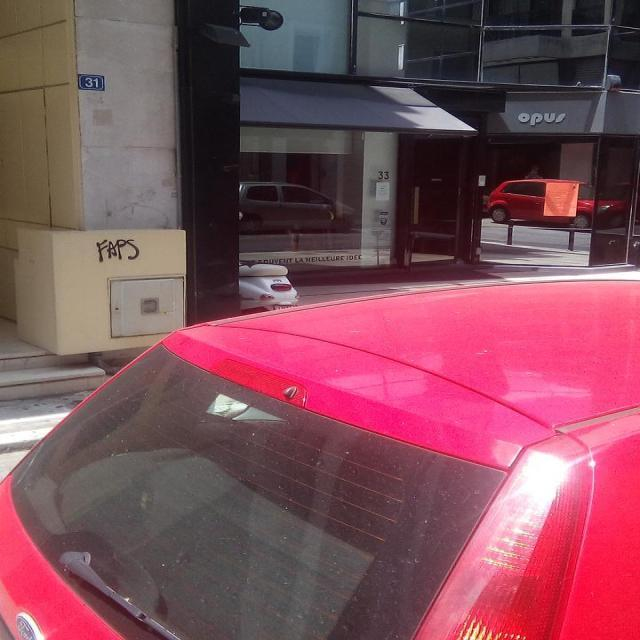nonspitting: (96, 238, 140, 262)
